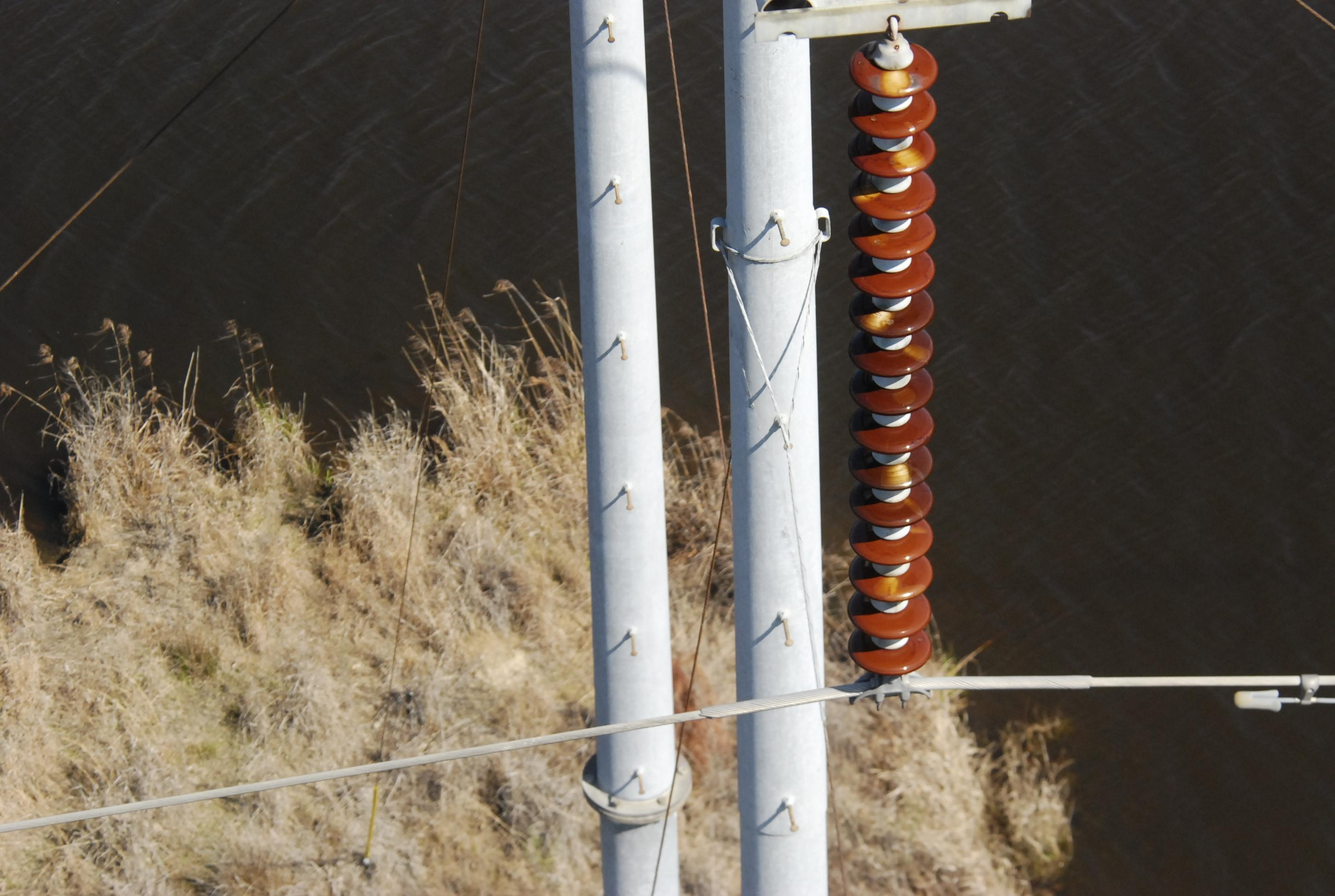Flashover: (870, 60, 926, 95), (877, 457, 916, 489), (857, 304, 893, 333), (890, 146, 927, 173)
hammer: (1233, 663, 1335, 722)
insulator: (841, 45, 939, 681)
